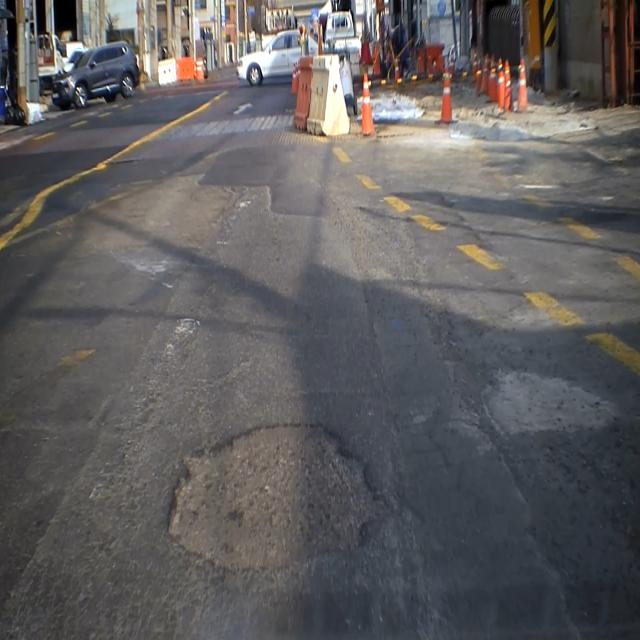Pothole: (142, 404, 410, 596)
